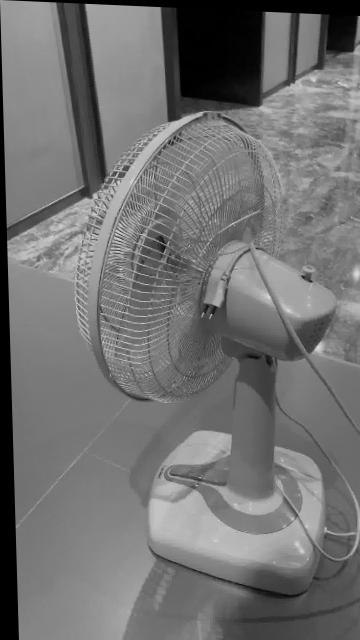Fan: (73, 109, 335, 596)
